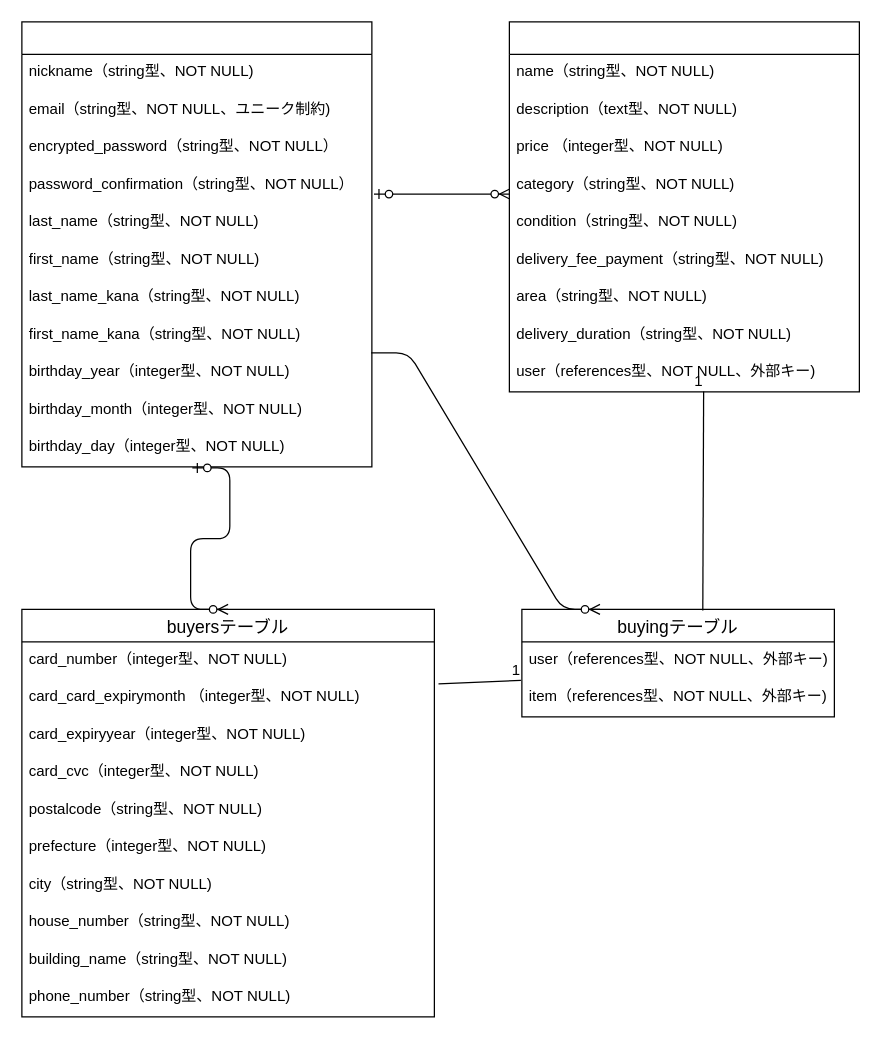
Some shapes in this 881 by 1043 pixel diagram are drawn without their labels. Each missing label, with the box of its shape:
itemsテーブル: (508, 21, 859, 392)
usersテーブル: (21, 21, 372, 467)
